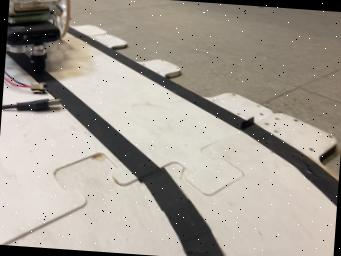street: (0, 31, 338, 256), (0, 31, 338, 256), (0, 31, 338, 256), (0, 31, 338, 256), (0, 31, 338, 256), (0, 31, 338, 256)
